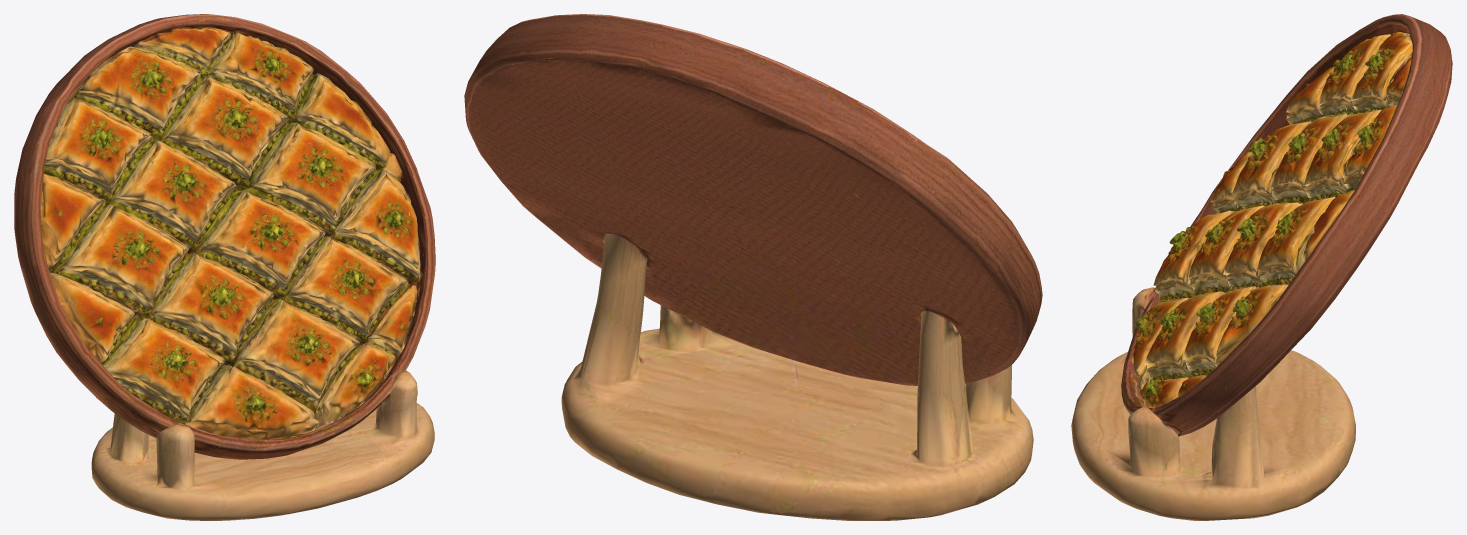
File: baklava.glb
3 renders of one model, left to right at view 1: azimuth 30°, elevation 25°; view 2: azimuth 150°, elevation 25°; view 3: azimuth 270°, elevation 25°, orthographic. The views are drawn at different scales.
Size of the model in its own units: 1.9 by 1.74 by 1.5.
Materials: 1 (1 with a texture image).
